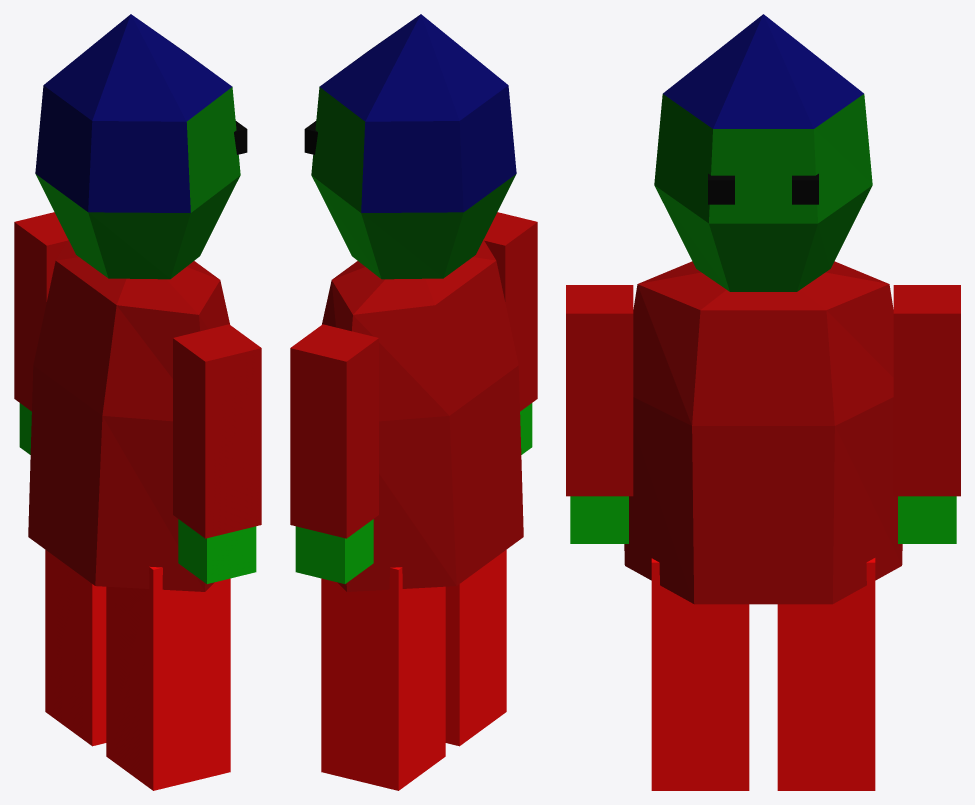
File: person_body.glb
3 renders of one model, left to right at view 1: azimuth 30°, elevation 25°; view 2: azimuth 150°, elevation 25°; view 3: azimuth 270°, elevation 25°, orthographic. The views are drawn at different scales.
Parts seen in each view (by area): view 1: person_body2; view 2: person_body2; view 3: person_body2.
Part boxes in pixels (x1,y1,x2,y2): person_body2: (14, 14, 261, 790); person_body2: (290, 14, 537, 790); person_body2: (566, 14, 960, 790).
Size of the model in its own units: 0.2253 by 0.99 by 0.47.
